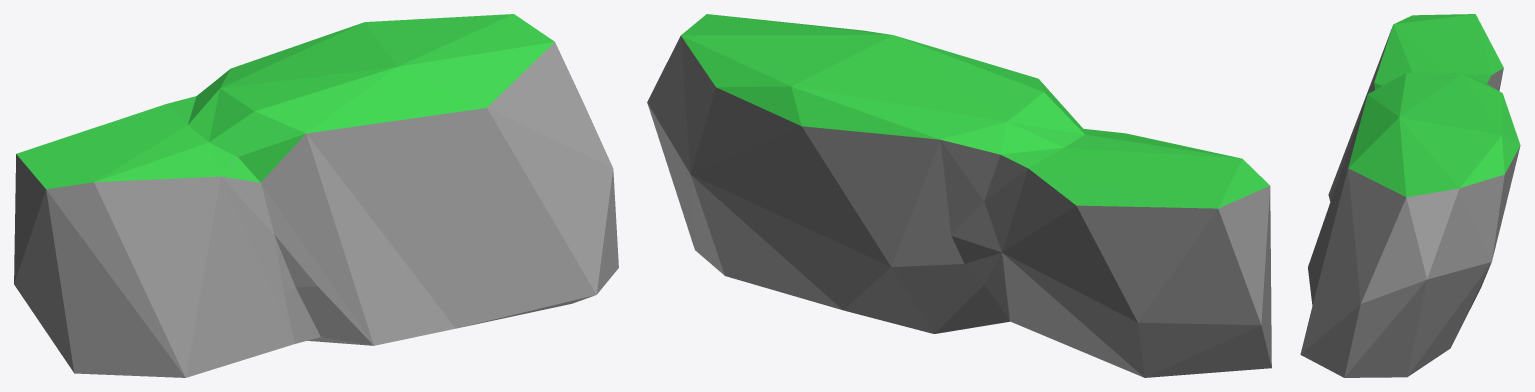
Rendered from Rocha_03.fbx.
3 renders of one model, left to right at view 1: azimuth 30°, elevation 25°; view 2: azimuth 150°, elevation 25°; view 3: azimuth 270°, elevation 25°, orthographic. The views are drawn at different scales.
Parts seen in each view (by area): view 1: Icosphere.003; view 2: Icosphere.003; view 3: Icosphere.003.
Boxes of the visible parts, bbox=[...] form: Icosphere.003: bbox=[14, 14, 618, 377]; Icosphere.003: bbox=[647, 14, 1271, 377]; Icosphere.003: bbox=[1300, 14, 1520, 377].
Size of the model in its own units: 1322 by 523 by 545.
